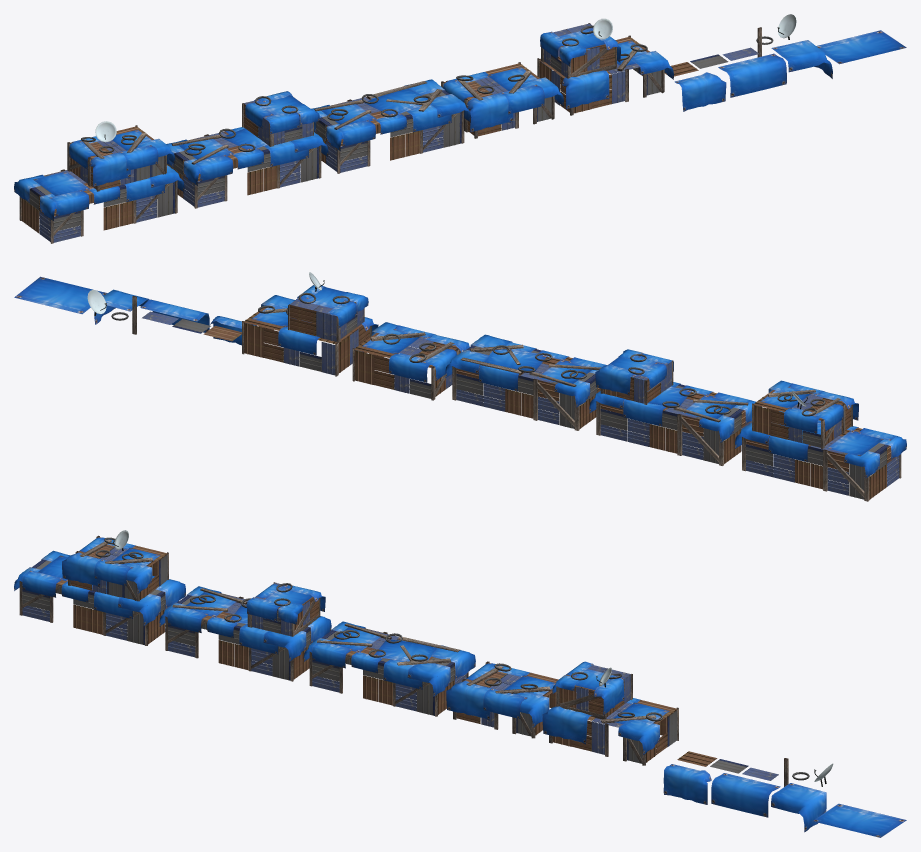
File: Slum.fbx
The picture shows the model from 3 angles, top to bottom: view 1: azimuth 30°, elevation 25°; view 2: azimuth 150°, elevation 25°; view 3: azimuth 330°, elevation 25°; orthographic projection.
Parts seen in each view (by area): view 1: House1, House2, House3, House5, House4, Blue sheet3, Blue sheet1, Blue sheet4, Blue sheet2; view 2: House1, House2, House3, House5, House4, Blue sheet1, Blue sheet3, Blue sheet2; view 3: House1, House2, House3, House5, House4, Blue sheet3, Blue sheet1, Blue sheet2, Blue sheet4.
Part boxes in pixels (box(x1,y1,x2,y2)): House1: box(14, 121, 184, 243); House2: box(166, 91, 328, 208); House3: box(311, 79, 471, 173); House5: box(537, 18, 673, 115); House4: box(441, 62, 563, 138); Blue sheet3: box(718, 53, 786, 97); Blue sheet1: box(816, 30, 906, 64); Blue sheet4: box(674, 72, 726, 111); Blue sheet2: box(771, 40, 832, 78); House1: box(735, 380, 906, 501); House2: box(589, 349, 755, 465); House3: box(445, 334, 606, 430); House5: box(242, 272, 378, 376); House4: box(352, 322, 469, 400); Blue sheet1: box(14, 276, 107, 314); Blue sheet3: box(140, 299, 209, 332); Blue sheet2: box(94, 289, 149, 324); House1: box(14, 530, 185, 645); House2: box(159, 582, 331, 681); House3: box(303, 621, 475, 716); House5: box(542, 661, 678, 765); House4: box(446, 661, 558, 738); Blue sheet3: box(711, 773, 780, 817); Blue sheet1: box(812, 803, 906, 837); Blue sheet2: box(771, 783, 826, 832); Blue sheet4: box(663, 764, 711, 804).
Bounding box in the file's own units: 4199 × 512 × 364.
7 materials, 7 textured.
